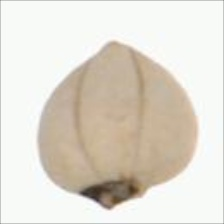L5: (71, 37, 146, 176), (76, 178, 153, 212)
L6: (33, 38, 200, 213)
